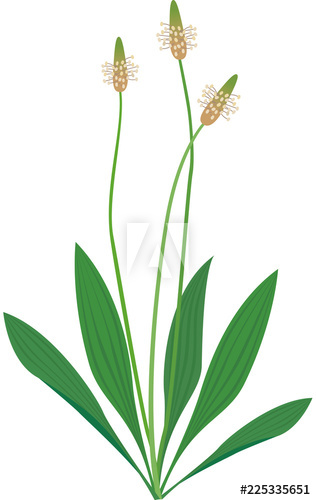buckhorn plantain: (11, 5, 314, 468)
